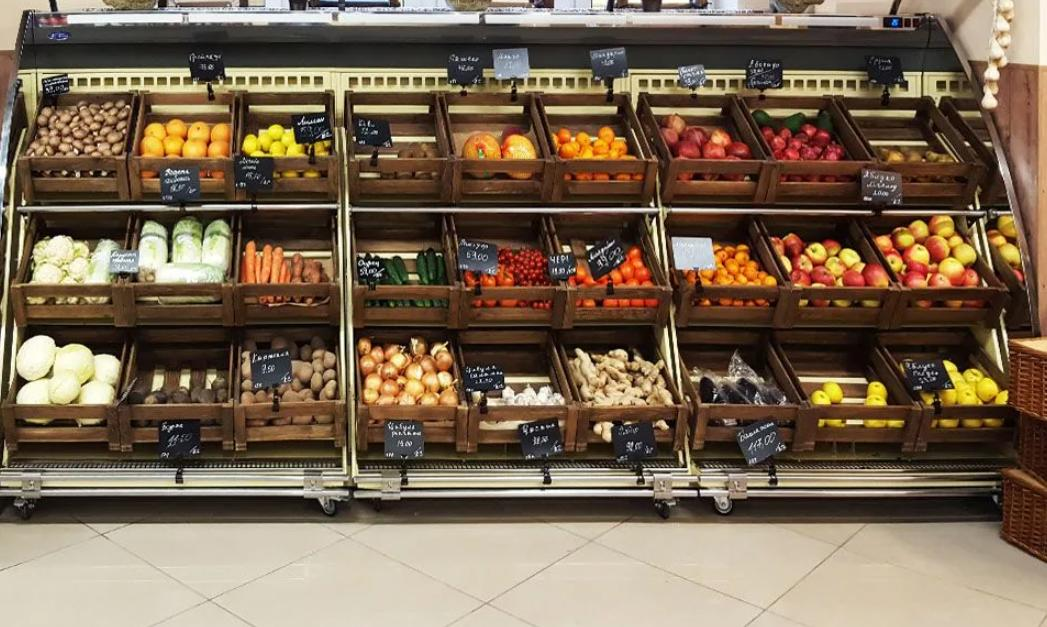beet: (122, 376, 230, 417)
carrot: (236, 239, 290, 308), (281, 251, 331, 306)
cucumber: (355, 246, 452, 310)
eggplant: (698, 370, 794, 436)
garlic: (470, 382, 568, 432)
ginger: (570, 346, 674, 441)
green apple: (908, 357, 1010, 431), (807, 378, 906, 440)
lemon: (240, 123, 334, 188)
mandarin: (684, 240, 777, 308), (550, 124, 643, 185)
onion: (356, 336, 455, 423)
orange: (139, 119, 232, 188)
pear: (879, 143, 956, 174)
pomegranate: (656, 109, 749, 187)
potato: (240, 336, 337, 429)
red apple: (877, 210, 981, 310), (768, 235, 888, 309), (760, 114, 849, 184)
tomato: (565, 244, 658, 310), (499, 248, 553, 310), (462, 266, 518, 306)
